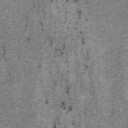oxide scale of temperature system: (24, 0, 90, 128), (0, 43, 7, 62), (38, 61, 42, 68)
